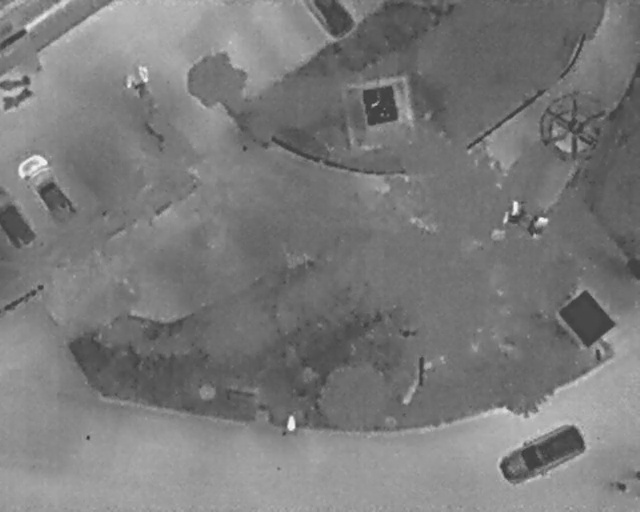Bicycle: (0, 82, 36, 113), (0, 74, 31, 90), (133, 81, 146, 101)
Car: (491, 415, 594, 492), (9, 147, 81, 232), (0, 181, 38, 251), (300, 0, 357, 39)
Person: (137, 65, 151, 83), (124, 73, 135, 90)
